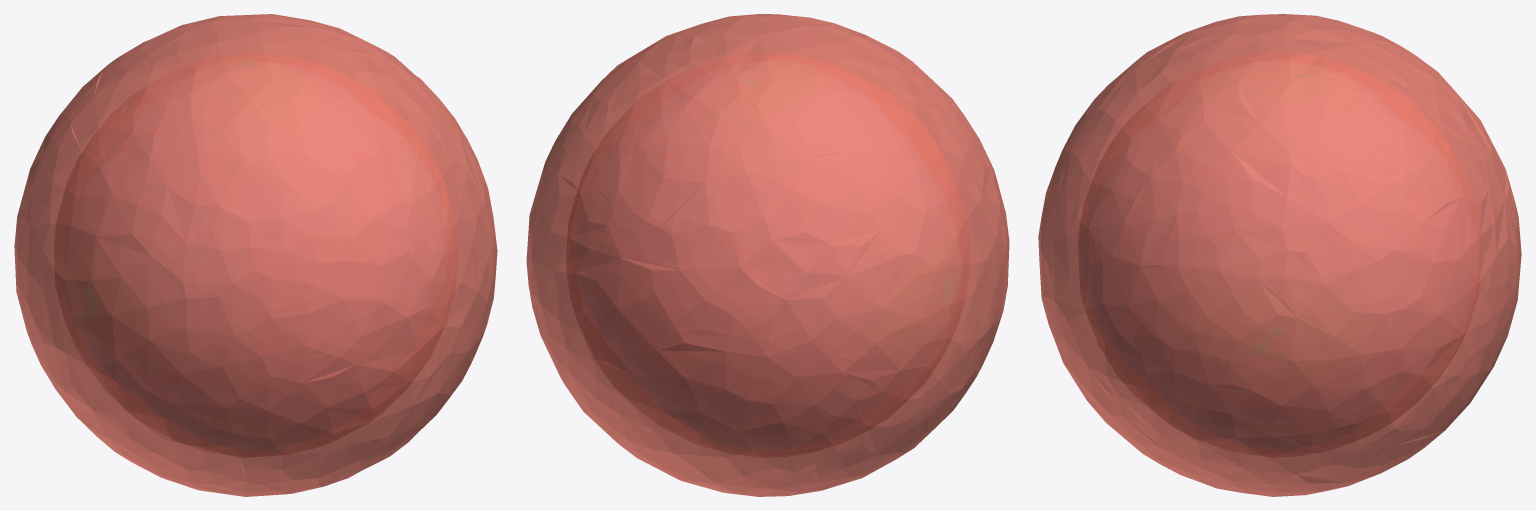
Rendered from orbital.glb.
3 views of the same model, side by side, from view 1: azimuth 30°, elevation 25°; view 2: azimuth 150°, elevation 25°; view 3: azimuth 270°, elevation 25° (orthographic).
Parts seen in each view (by area): view 1: Ce_n6_s_ml0_node, Ce_n5_s_ml0_node; view 2: Ce_n6_s_ml0_node, Ce_n5_s_ml0_node; view 3: Ce_n6_s_ml0_node, Ce_n5_s_ml0_node.
Part boxes in pixels (<box>): Ce_n6_s_ml0_node: <box>14,14,497,496</box>; Ce_n5_s_ml0_node: <box>54,53,457,457</box>; Ce_n6_s_ml0_node: <box>526,14,1009,496</box>; Ce_n5_s_ml0_node: <box>566,53,969,457</box>; Ce_n6_s_ml0_node: <box>1038,14,1521,496</box>; Ce_n5_s_ml0_node: <box>1078,53,1481,457</box>.
Bounding box in the file's own units: 3.06 × 3.06 × 3.06.
